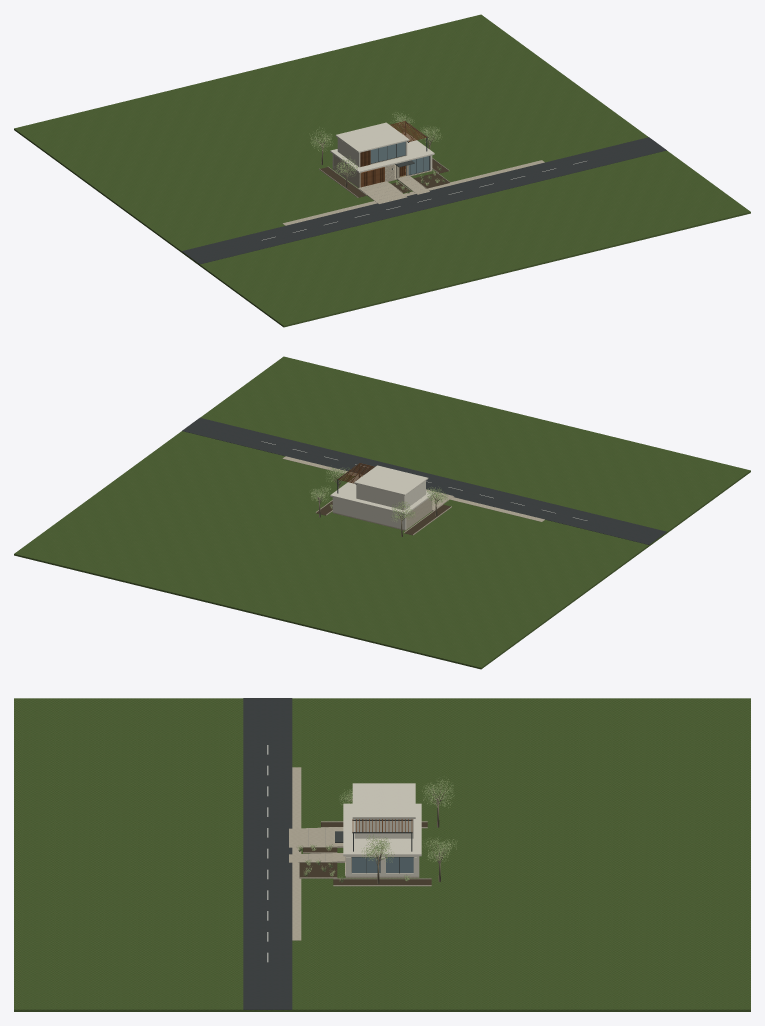
The model's file is modern-house.glb.
3 views of the same model, one above another, from view 1: azimuth 30°, elevation 25°; view 2: azimuth 150°, elevation 25°; view 3: azimuth 270°, elevation 25° (orthographic). The views are drawn at different scales.
Visible parts, largest first — view 1: ENV_terrain, ENV_road, HERO_upper_roof, DETAIL_Thermowood_oak, HERO_roof_ground, ENV_sidewalk, ENV_driveway; view 2: ENV_terrain, ENV_road, HERO_upper_roof, HERO_rear_wall, HERO_roof_ground, HERO_upper_rear, ENV_sidewalk; view 3: ENV_terrain, ENV_road, HERO_upper_roof, HERO_roof_ground, ENV_sidewalk, HERO_upper_right, ENV_driveway, GARDEN_Olive_leaf_1, DETAIL_Limestone, GARDEN_Olive_leaf_2, GARDEN_Olive_leaf_0, ENV_planting_bed (+1 smaller).
Part boxes in pixels (box(x1,y1,x2,y2)): ENV_terrain: box(14, 14, 750, 327); ENV_road: box(182, 137, 666, 264); HERO_upper_roof: box(335, 122, 409, 152); DETAIL_Thermowood_oak: box(360, 121, 427, 187); HERO_roof_ground: box(330, 132, 434, 172); ENV_sidewalk: box(282, 160, 544, 225); ENV_driveway: box(358, 181, 407, 203); ENV_terrain: box(14, 356, 750, 669); ENV_road: box(182, 418, 666, 544); HERO_upper_roof: box(354, 465, 428, 495); HERO_rear_wall: box(332, 497, 406, 529); HERO_roof_ground: box(330, 474, 434, 514); HERO_upper_rear: box(356, 484, 404, 509); ENV_sidewalk: box(282, 456, 544, 521); ENV_terrain: box(14, 698, 750, 1011); ENV_road: box(243, 698, 292, 1009); HERO_upper_roof: box(352, 783, 415, 818); HERO_roof_ground: box(343, 803, 421, 856); ENV_sidewalk: box(292, 767, 301, 940); HERO_upper_right: box(354, 819, 413, 838); ENV_driveway: box(289, 827, 343, 847); GARDEN_Olive_leaf_1: box(297, 776, 456, 882); DETAIL_Limestone: box(299, 821, 431, 886); GARDEN_Olive_leaf_2: box(305, 781, 457, 880); GARDEN_Olive_leaf_0: box(305, 777, 456, 880); ENV_planting_bed: box(299, 862, 337, 877).
Bounding box in the file's own units: 90 × 6.72 × 90.
Materials: 17 (6 with a texture image).
